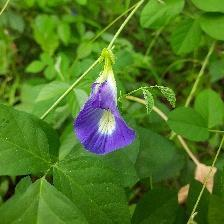shankupushpam: (71, 66, 138, 158)
